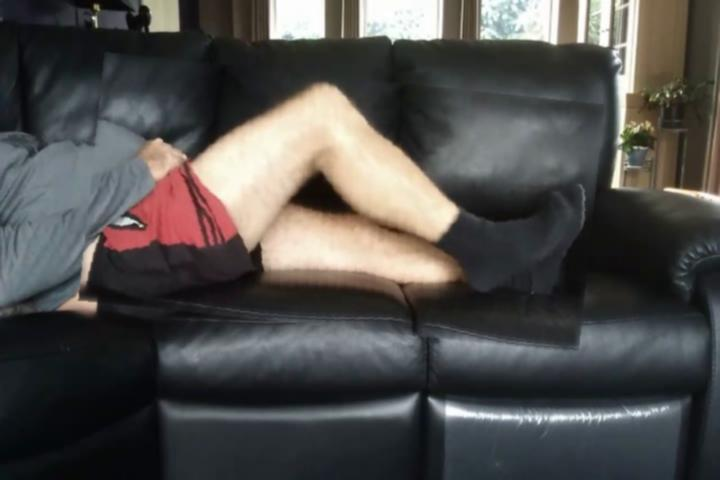lower_body: (85, 66, 600, 342)
